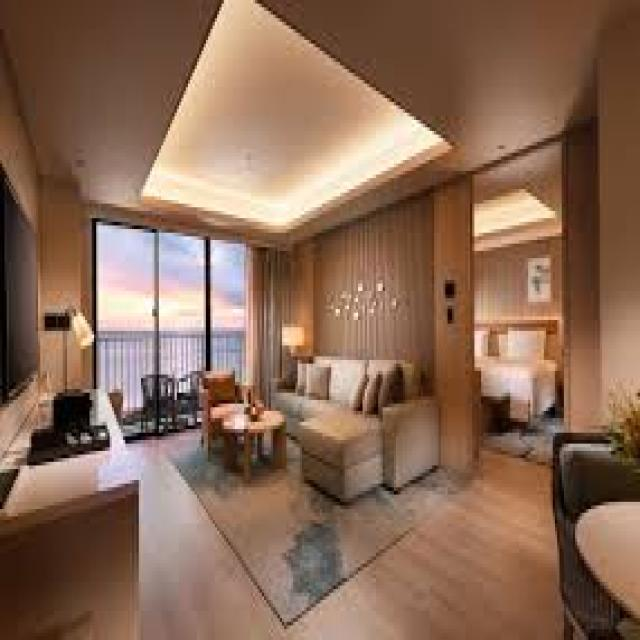Sofa: (274, 354, 441, 504)
Table: (211, 399, 287, 474)
tv: (3, 168, 41, 401)
window: (88, 216, 275, 381)
